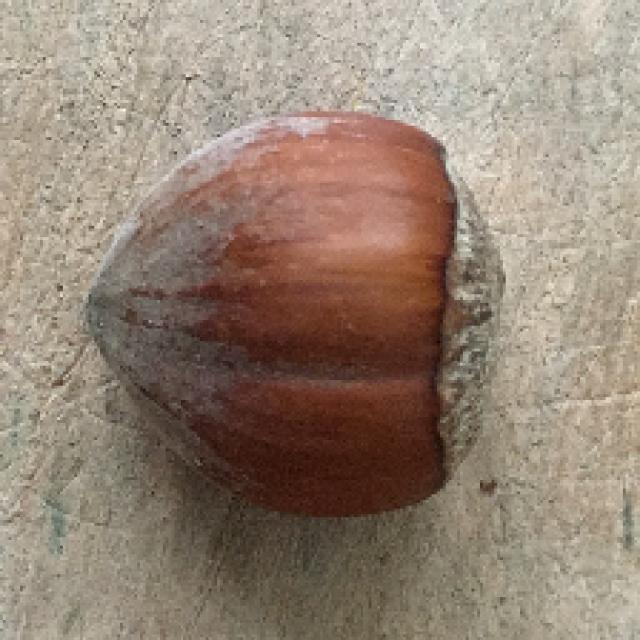qualityHazelnut: (70, 106, 510, 524)
